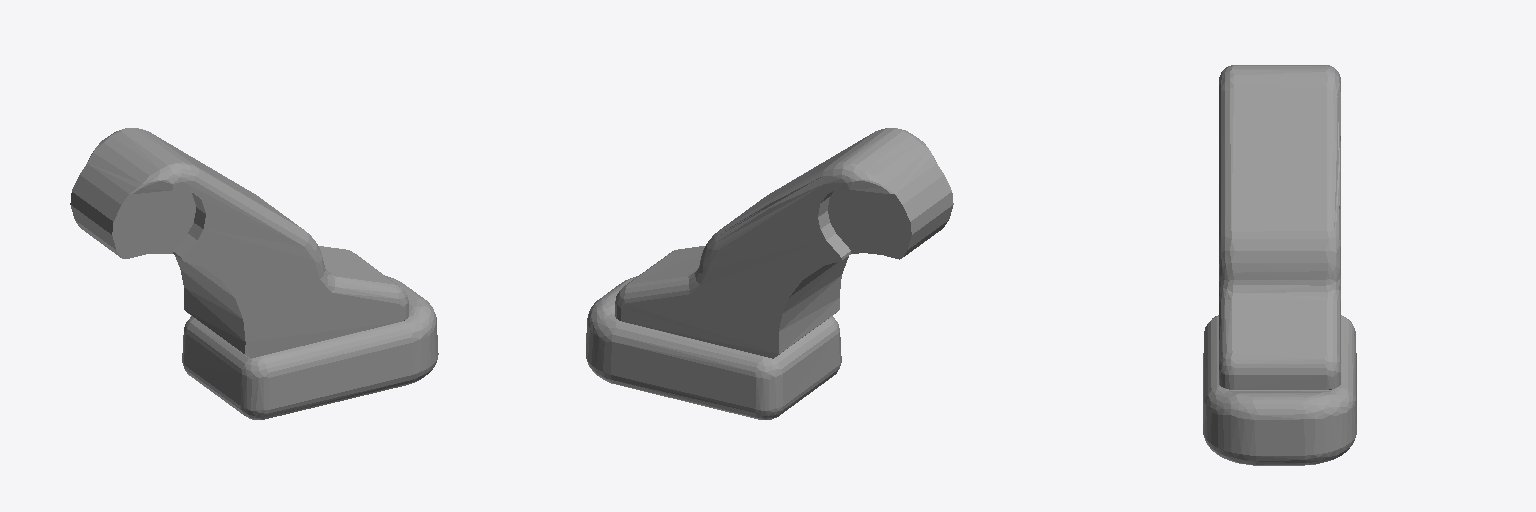
The model's file is l_finger_tip.obj.
3 renders of one model, left to right at view 1: azimuth 30°, elevation 25°; view 2: azimuth 150°, elevation 25°; view 3: azimuth 270°, elevation 25°, orthographic.
Parts seen in each view (by area): view 1: finger_tip_M_finger_tip_MShape; view 2: finger_tip_M_finger_tip_MShape; view 3: finger_tip_M_finger_tip_MShape.
Part boxes in pixels (x1,y1,x2,y2): finger_tip_M_finger_tip_MShape: (70, 128, 438, 419); finger_tip_M_finger_tip_MShape: (586, 128, 953, 419); finger_tip_M_finger_tip_MShape: (1203, 65, 1356, 465).
Size of the model in its own units: 0.0568 by 0.0447 by 0.023.